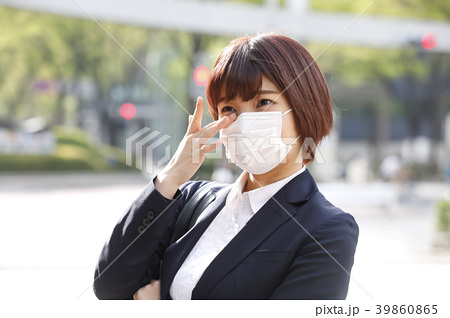mask: (217, 113, 291, 180)
